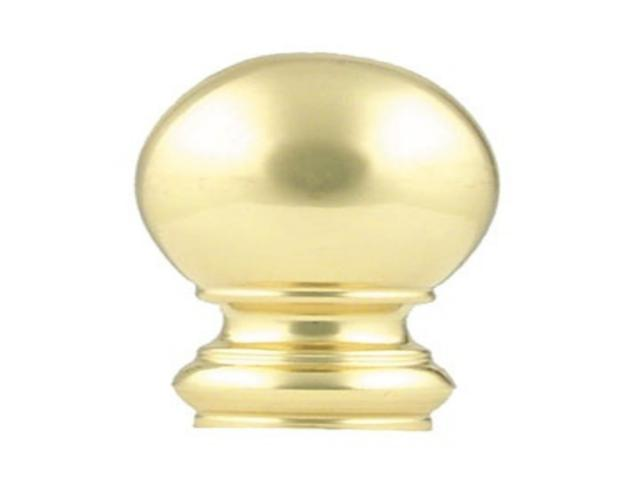Door-handle: (132, 51, 500, 432)
